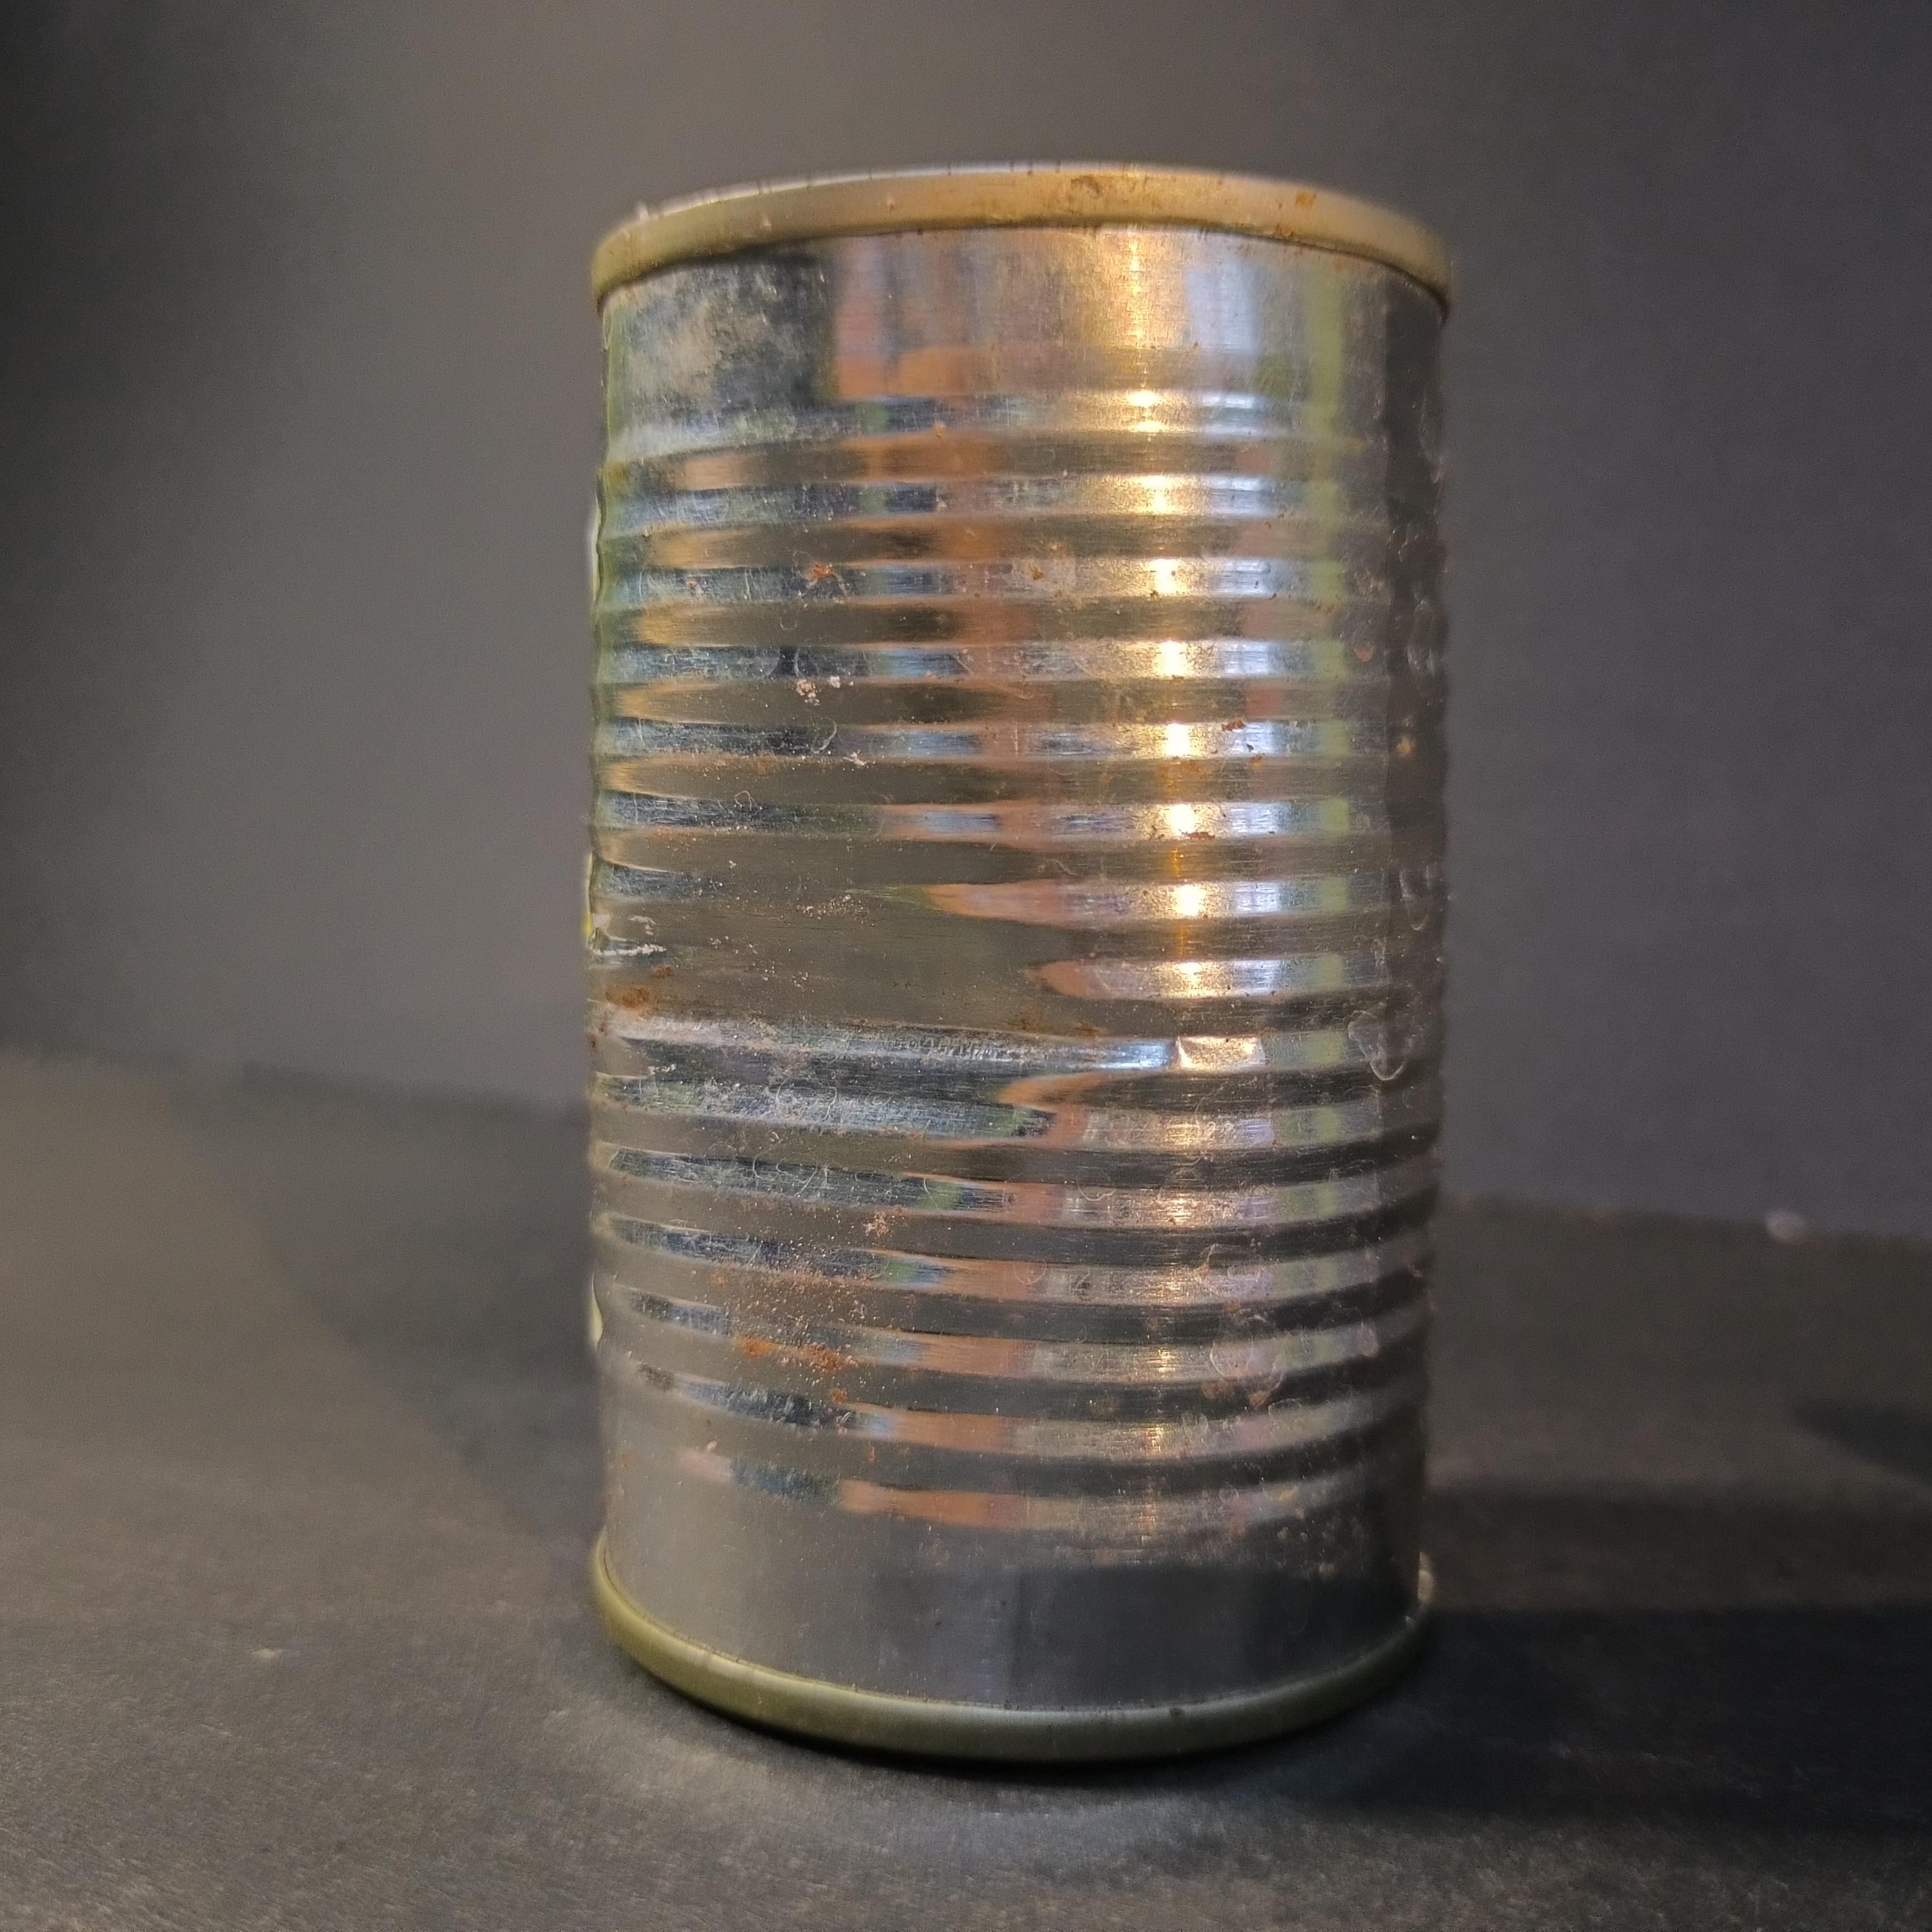Minor Defect: (580, 147, 1470, 1781)
